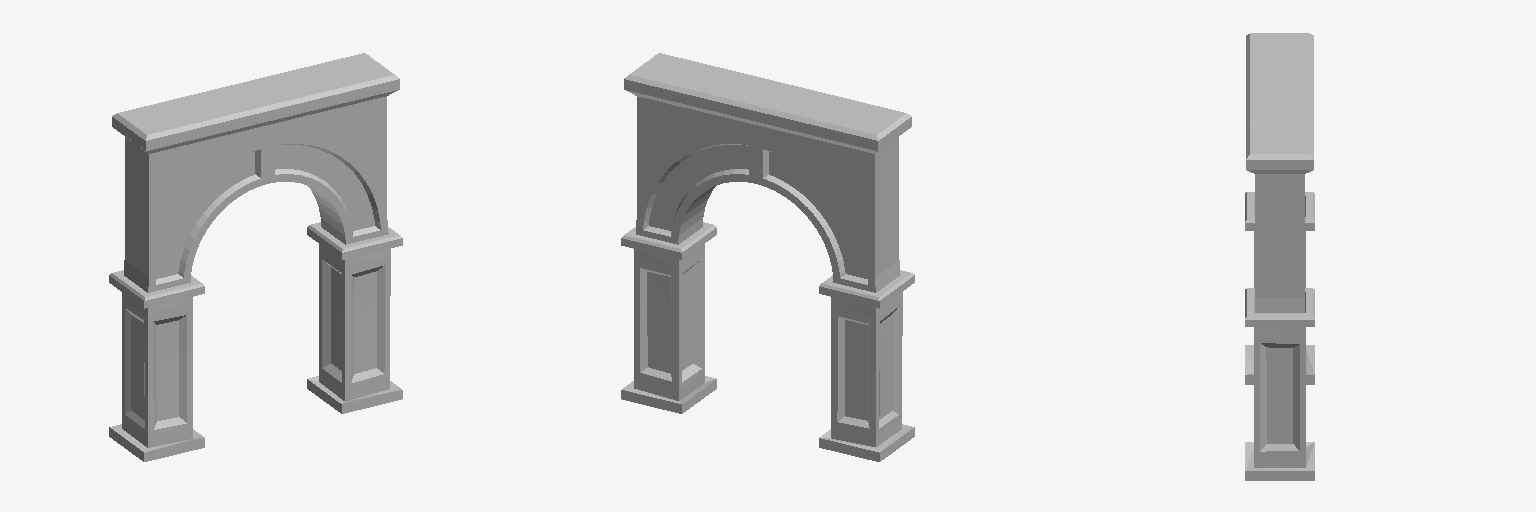
File: arch.obj
3 renders of one model, left to right at view 1: azimuth 30°, elevation 25°; view 2: azimuth 150°, elevation 25°; view 3: azimuth 270°, elevation 25°, orthographic.
Visible parts, largest first — view 1: Box001; view 2: Box001; view 3: Box001.
Part boxes in pixels (bbox=[...]): Box001: bbox=[109, 53, 402, 461]; Box001: bbox=[621, 53, 914, 461]; Box001: bbox=[1245, 33, 1314, 480].
Bounding box in the file's own units: 0.7882 × 0.9455 × 0.1862.